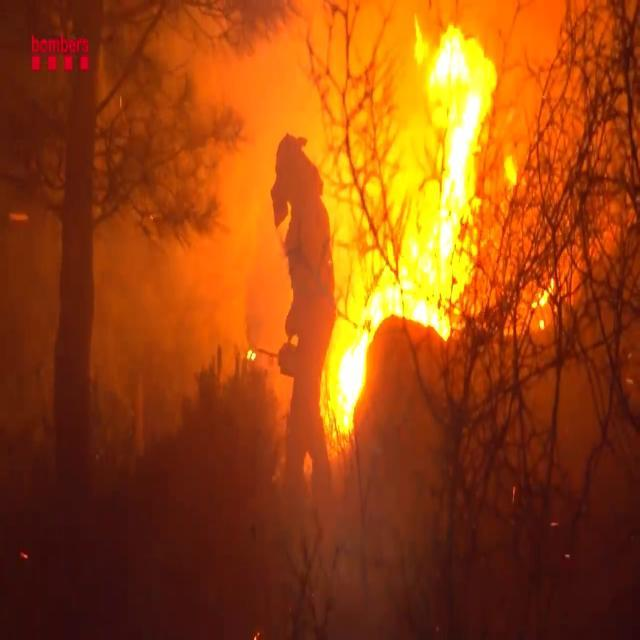Fire: (325, 1, 505, 434)
